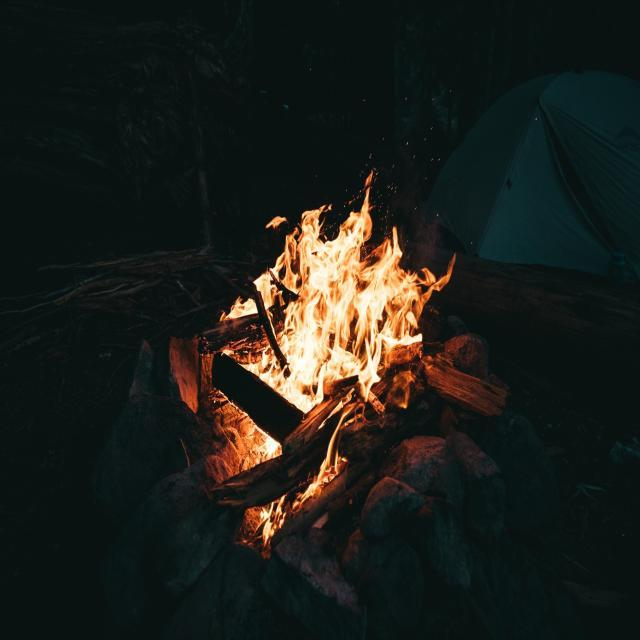Fire: (210, 169, 460, 548)
